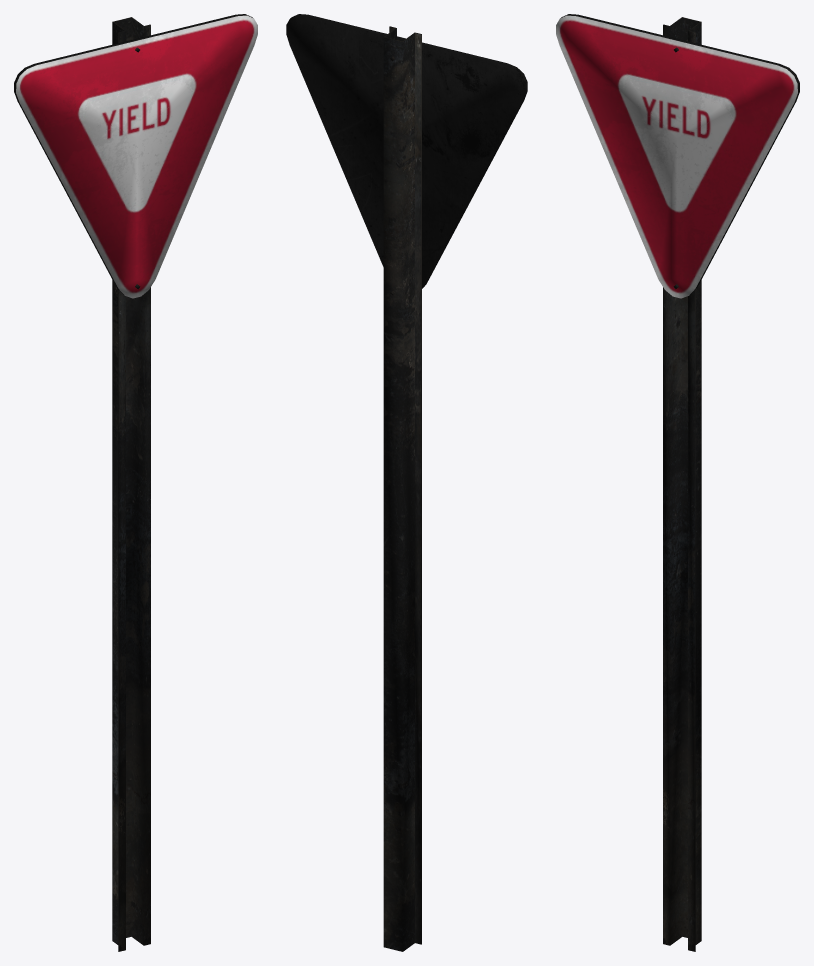
The model's file is yield_sign.obj.
3 renders of one model, left to right at view 1: azimuth 30°, elevation 25°; view 2: azimuth 150°, elevation 25°; view 3: azimuth 330°, elevation 25°, orthographic.
Visible parts, largest first — view 1: yield-sign-low; view 2: yield-sign-low; view 3: yield-sign-low.
Boxes of the visible parts, x1,y1,x2,y2 form: yield-sign-low: (14,14,257,951); yield-sign-low: (286,14,527,951); yield-sign-low: (556,14,799,951).
Size of the model in its own units: 0.5644 by 2.05 by 0.0703.
Materials: 1 (1 with a texture image).
